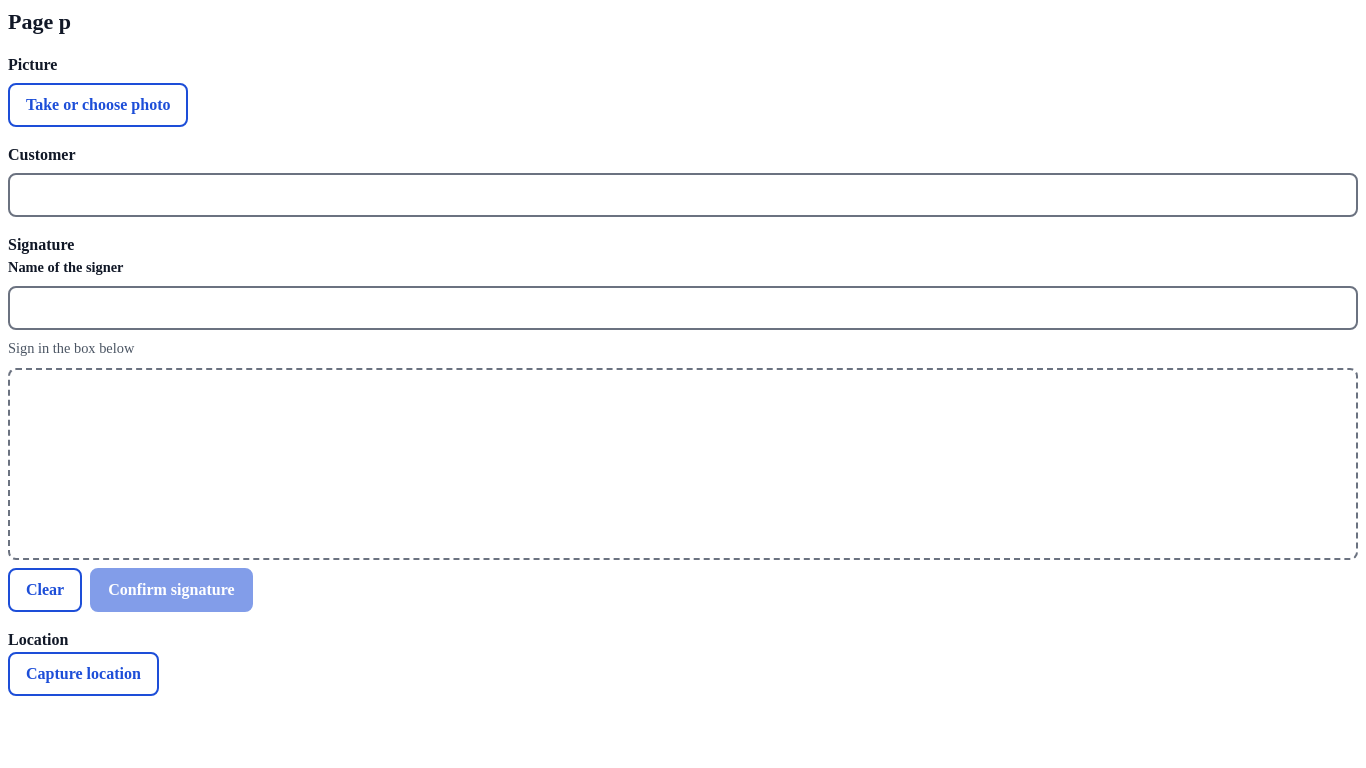
onAsyncWork › location › resolves the work when locating fails
The image size is (1366, 768).
Click the button "Capture location". click: (83, 674)
box: [8,652,159,696]
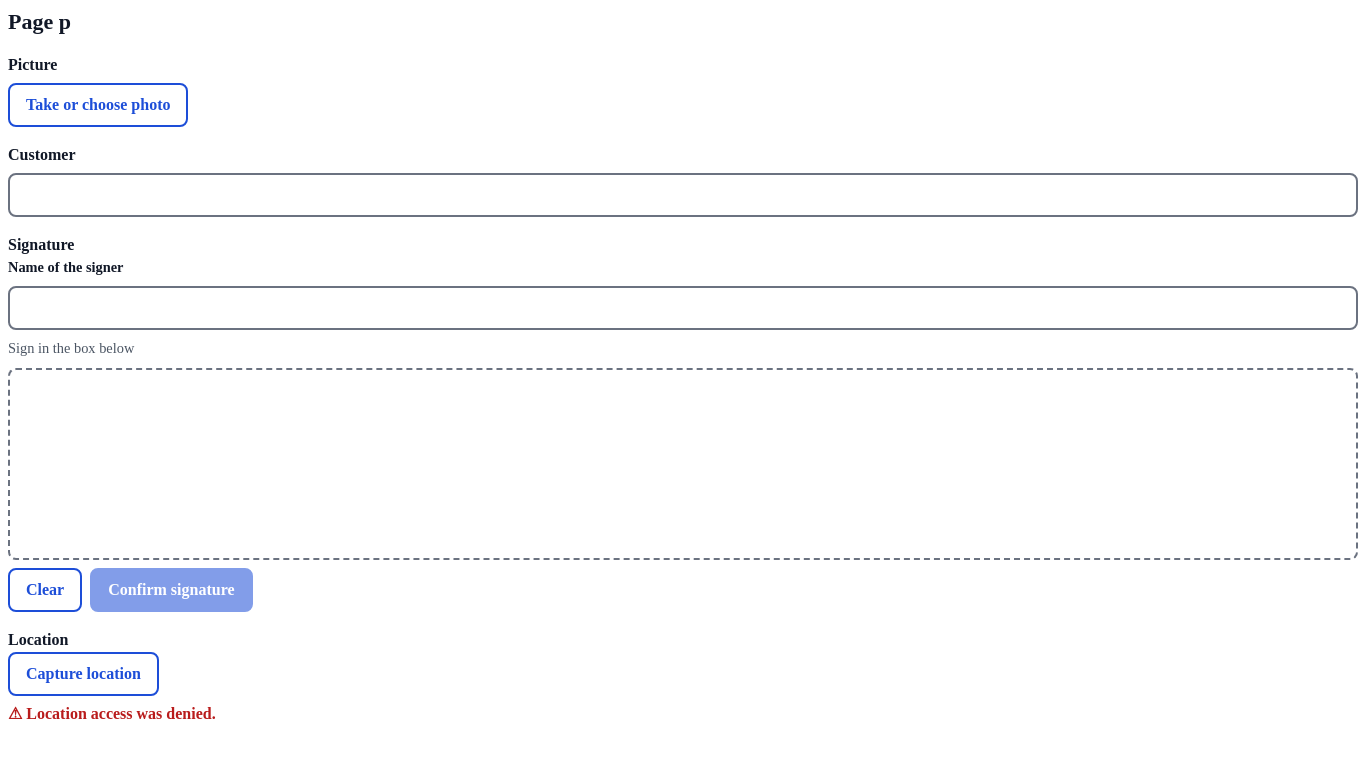
expect the message reads "Location access was denied.": met, box [26,705,216,722]
